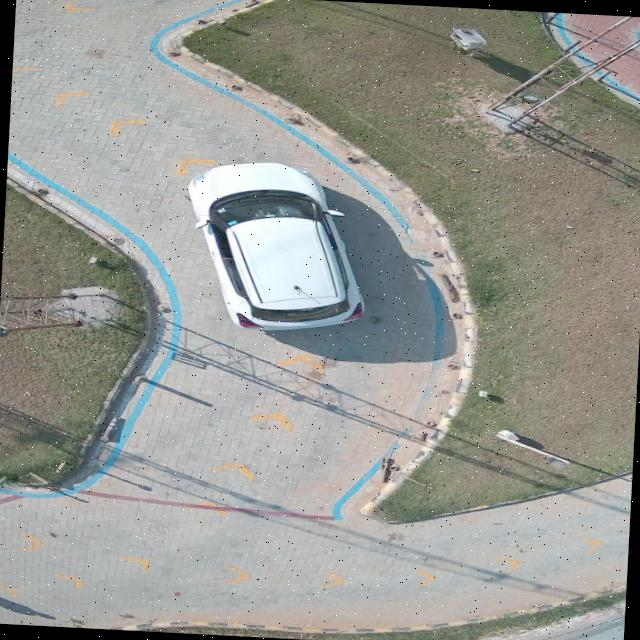car: (186, 160, 369, 330)
